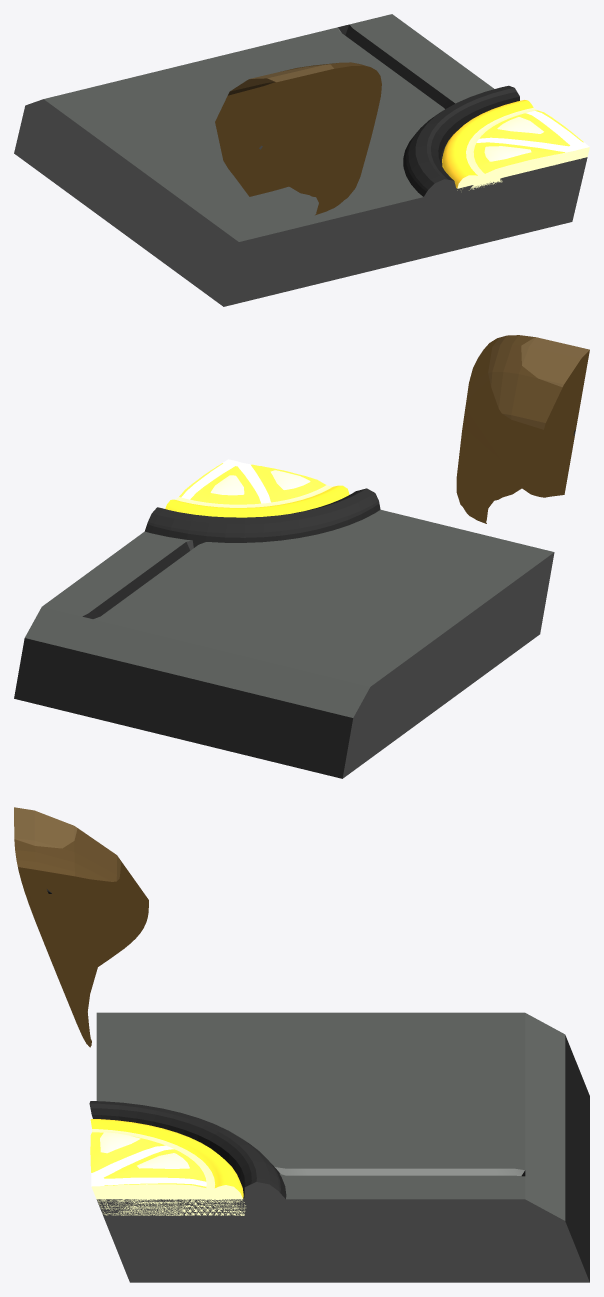
File: pineapple_165.glb
3 renders of one model, top to bottom at view 1: azimuth 30°, elevation 25°; view 2: azimuth 150°, elevation 25°; view 3: azimuth 270°, elevation 25°, orthographic. The views are drawn at different scales.
Visible parts, largest first — view 1: pineapple_165; view 2: pineapple_165; view 3: pineapple_165.
Boxes of the visible parts, x1,y1,x2,y2 form: pineapple_165: [14, 14, 589, 306]; pineapple_165: [14, 335, 589, 778]; pineapple_165: [14, 807, 589, 1282].
Bounding box in the file's own units: 24 × 17.32 × 31.3.
